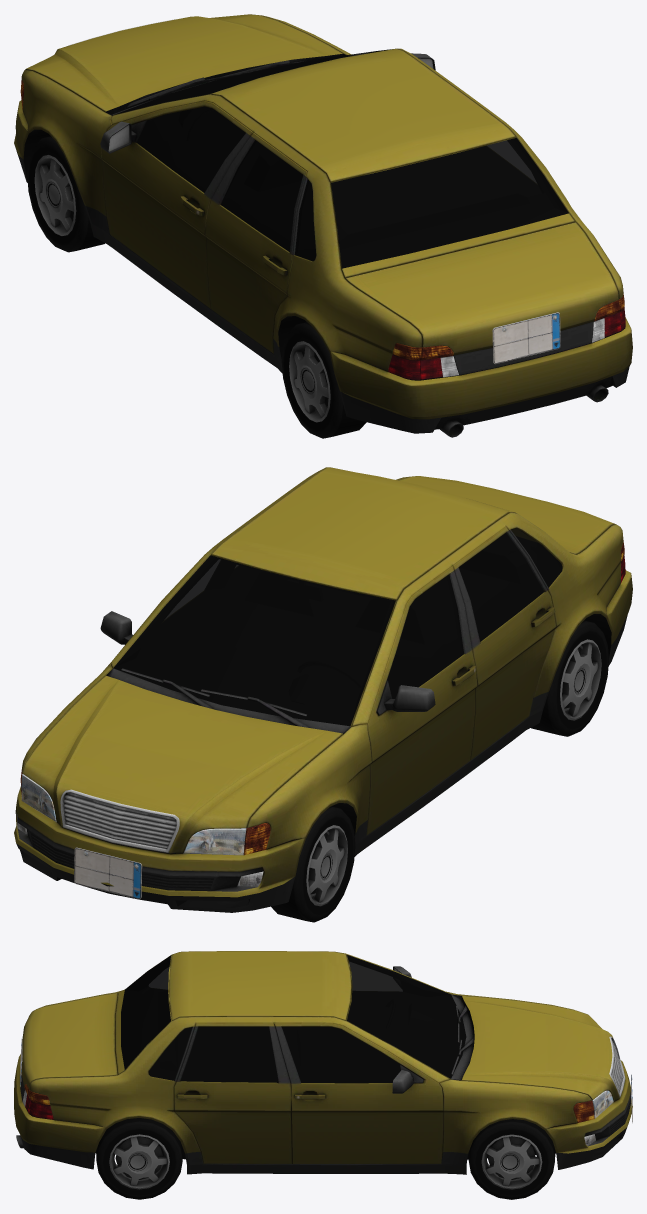
The model's file is sedan.glb.
3 views of the same model, one above another, from view 1: azimuth 30°, elevation 25°; view 2: azimuth 150°, elevation 25°; view 3: azimuth 270°, elevation 25° (orthographic). The views are drawn at different scales.
Visible parts, largest first — view 1: Sedan Body_Body_0, Sedan Body_Glass_0, Tire_RL_0, Tire_FL_0, Sedan Body_Optics_0, LicensePlate_Rear; view 2: Sedan Body_Body_0, Sedan Body_Glass_0, Tire_FL_0, Tire_RL_0, Sedan Body_Optics_0, LicensePlate_Front; view 3: Sedan Body_Body_0, Sedan Body_Glass_0, Tire_RR_0, Tire_FR_0, Sedan Body_Optics_0.
Part boxes in pixels (left/top/right/bottom): Sedan Body_Body_0: left=14, top=14, right=632, bottom=437; Sedan Body_Glass_0: left=114, top=49, right=568, bottom=268; Tire_RL_0: left=281, top=322, right=366, bottom=438; Tire_FL_0: left=27, top=136, right=105, bottom=252; Sedan Body_Optics_0: left=20, top=76, right=625, bottom=380; LicensePlate_Rear: left=492, top=312, right=560, bottom=364; Sedan Body_Body_0: left=14, top=467, right=632, bottom=912; Sedan Body_Glass_0: left=113, top=528, right=562, bottom=726; Tire_FL_0: left=271, top=806, right=355, bottom=922; Tire_RL_0: left=531, top=620, right=608, bottom=736; Sedan Body_Optics_0: left=16, top=540, right=625, bottom=887; LicensePlate_Front: left=74, top=847, right=142, bottom=899; Sedan Body_Body_0: left=14, top=951, right=632, bottom=1174; Sedan Body_Glass_0: left=121, top=955, right=466, bottom=1083; Tire_RR_0: left=96, top=1118, right=182, bottom=1199; Tire_FR_0: left=468, top=1119, right=555, bottom=1199; Sedan Body_Optics_0: left=22, top=1084, right=613, bottom=1145.
Bounding box in the file's own units: 1.94 × 1.34 × 4.36.
6 materials, 4 textured.
